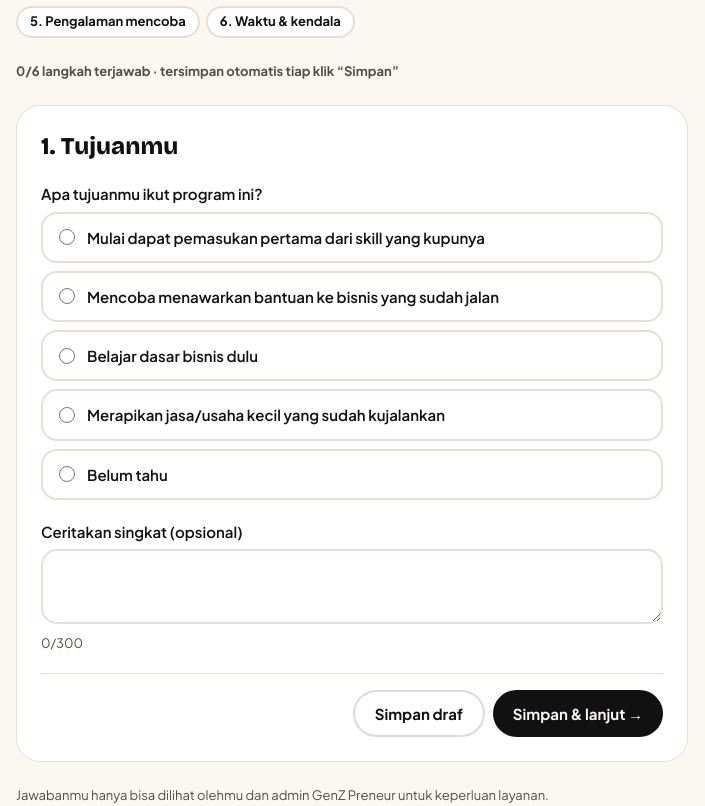
Test: Kondisi Awal — formulir › peserta baru: mulai di langkah 1, ada opsi "Belum tahu", simpan lalu pindah langkah
The width and height of the screenshot is (705, 806).
(page scrolled)
Expected: the heading "1. Tujuanmu" is shown, [41, 132, 178, 160]
Click the radio button labelled "Belum tahu".
click(67, 474)  # box [59, 466, 75, 482]
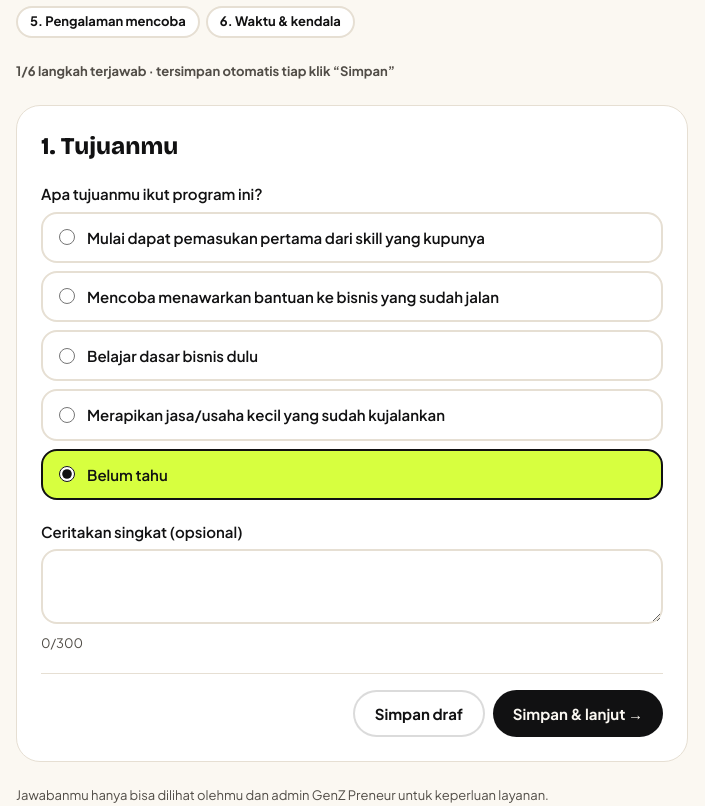
Click the button "Simpan & lanjut →".
click(578, 714)  # box [493, 690, 663, 737]
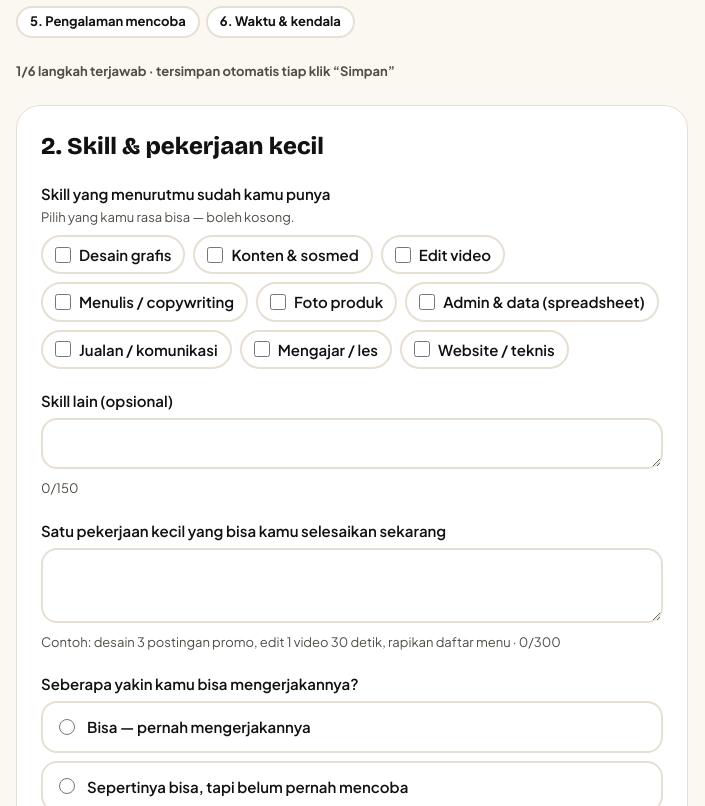
Expected: the heading "2. Skill & pekerjaan kecil" is shown, [41, 132, 324, 160]
Expected: the text box labelled "Satu pekerjaan kecil yang bisa kamu selesaikan sekarang" is shown, [41, 548, 663, 622]
